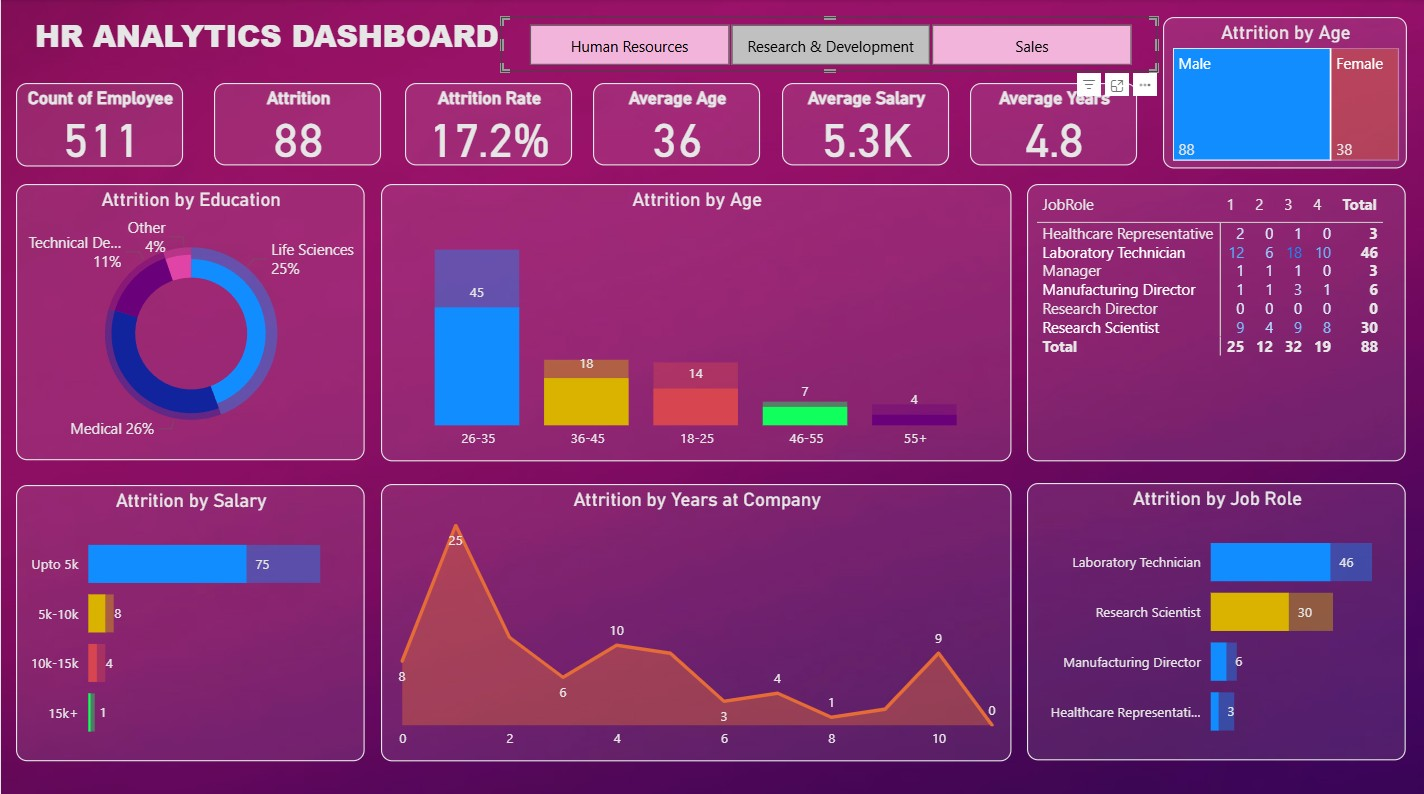

Layout of this report page (visuals, bound fields, positions):
{"tool":"powerbi","page":{"name":"Page 1","canvas":[1280,720],"ordinal":0},"visuals":[{"type":"card","title":"Count of Employee","fields":{"Values":["CountNonNull(HR_Analytics.EmpID)"]},"box":[13.8,75,150,75],"z":0},{"type":"card","title":"Attrition","fields":{"Values":["Sum(HR_Analytics.AttritionCount)"]},"box":[191.4,75.7,150,74.3],"z":1000},{"type":"card","title":"Attrition Rate","fields":{"Values":["HR_Analytics.AttritionRate"]},"box":[362.9,75.7,150,74.3],"z":2000},{"type":"card","title":"Average Age","fields":{"Values":["Avg(HR_Analytics.Age)"]},"box":[531.4,75.7,150,74.3],"z":3000},{"type":"card","title":"Average Salary","fields":{"Values":["Avg(HR_Analytics.MonthlyIncome)"]},"box":[701.4,75.7,150,74.3],"z":4000},{"type":"card","title":"Average Years","fields":{"Values":["Avg(HR_Analytics.YearsAtCompany)"]},"box":[870,75.7,150,74.3],"z":5000},{"type":"donutChart","title":"Attrition by Education","fields":{"Category":["HR_Analytics.EducationField"],"Y":["Sum(HR_Analytics.AttritionCount)"]},"box":[13.8,166.2,312.5,247.5],"z":6000},{"type":"columnChart","title":"Attrition by Age","fields":{"Category":["HR_Analytics.AgeGroup"],"Y":["Sum(HR_Analytics.AttritionCount)"]},"box":[341.4,165.7,565.7,248.6],"z":7000},{"type":"pivotTable","fields":{"Rows":["HR_Analytics.JobRole"],"Columns":["HR_Analytics.JobSatisfaction"],"Values":["Sum(HR_Analytics.AttritionCount)"]},"box":[921.4,165.7,340,248.6],"z":8000},{"type":"barChart","title":"Attrition by Salary","fields":{"Category":["HR_Analytics.SalarySlab"],"Y":["Sum(HR_Analytics.AttritionCount)"]},"box":[13.8,436.2,312.5,247.5],"z":9000},{"type":"barChart","title":"Attrition by Job Role","fields":{"Category":["HR_Analytics.JobRole"],"Y":["Sum(HR_Analytics.AttritionCount)"]},"box":[921.4,434.3,340,248.6],"z":9001},{"type":"areaChart","title":"Attrition by Years at Company","fields":{"Category":["HR_Analytics.YearsAtCompany"],"Y":["Sum(HR_Analytics.AttritionCount)"]},"box":[341.4,435.7,565.7,248.6],"z":9002},{"type":"treemap","title":"Attrition by Age","fields":{"Group":["HR_Analytics.Gender"],"Values":["Sum(HR_Analytics.AttritionCount)"]},"box":[1042.9,15.7,218.6,135.7],"z":9003},{"type":"slicer","fields":{"Values":["HR_Analytics.Department"]},"box":[448.6,15.7,590,50],"z":9004},{"type":"textbox","box":[14.3,8.6,448.6,65.7],"z":9005}]}

Visuals, with their boxes in screenshot pixels (x1, y1, x2, y2), scaled from the page's 1280x720 canvas onto the 1424x794 screenshot:
"Count of Employee" card: region(15, 83, 182, 165)
"Attrition" card: region(213, 83, 380, 165)
"Attrition Rate" card: region(404, 83, 571, 165)
"Average Age" card: region(591, 83, 758, 165)
"Average Salary" card: region(780, 83, 947, 165)
"Average Years" card: region(968, 83, 1135, 165)
"Attrition by Education" donutChart: region(15, 183, 363, 456)
"Attrition by Age" columnChart: region(380, 183, 1009, 457)
pivotTable - HR_Analytics.JobRole x HR_Analytics.JobSatisfaction: region(1025, 183, 1403, 457)
"Attrition by Salary" barChart: region(15, 481, 363, 754)
"Attrition by Job Role" barChart: region(1025, 479, 1403, 753)
"Attrition by Years at Company" areaChart: region(380, 480, 1009, 755)
"Attrition by Age" treemap: region(1160, 17, 1403, 167)
slicer - HR_Analytics.Department: region(499, 17, 1155, 72)
textbox: region(16, 9, 515, 82)
